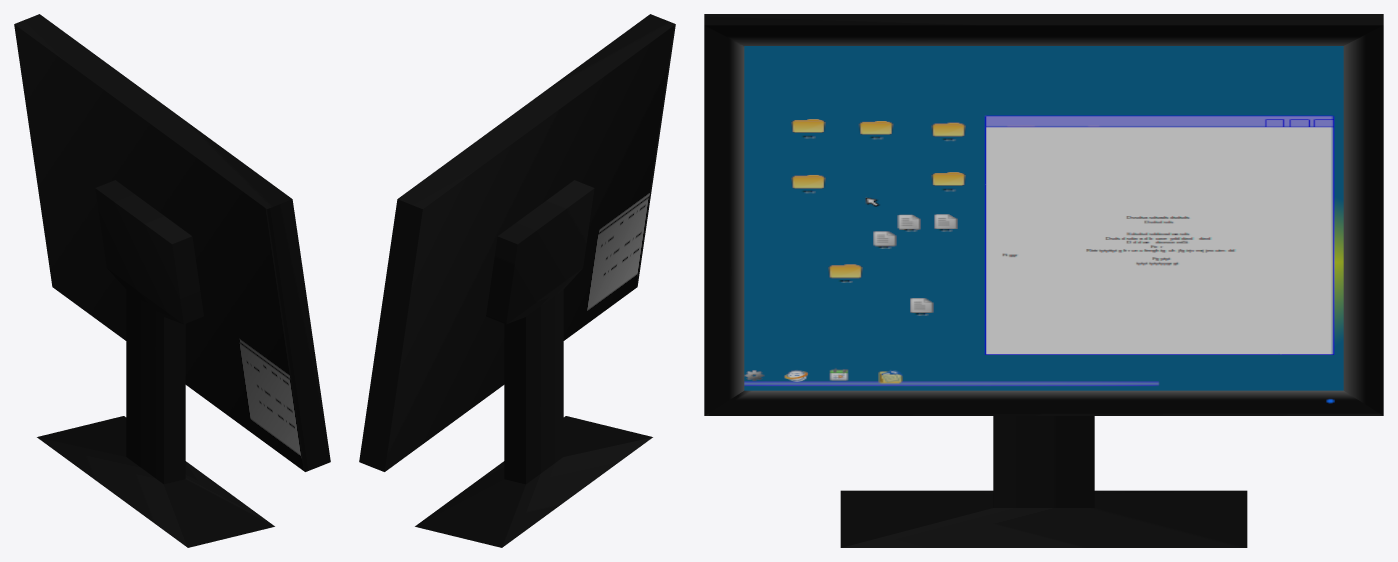
File: PCScreenOn.obj
3 views of the same model, side by side, from view 1: azimuth 30°, elevation 25°; view 2: azimuth 150°, elevation 25°; view 3: azimuth 270°, elevation 25° (orthographic). The views are drawn at different scales.
Visible parts, largest first — view 1: Monitor.001; view 2: Monitor.001; view 3: Monitor.001.
Part boxes in pixels (x1=…): Monitor.001: x1=14, y1=14, x2=330, y2=547; Monitor.001: x1=359, y1=14, x2=675, y2=547; Monitor.001: x1=704, y1=14, x2=1383, y2=547.
Bounding box in the file's own units: 1.08 × 4.18 × 5.14.
